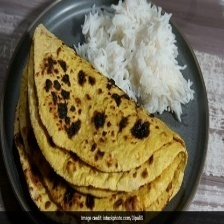rice: (69, 0, 197, 124)
